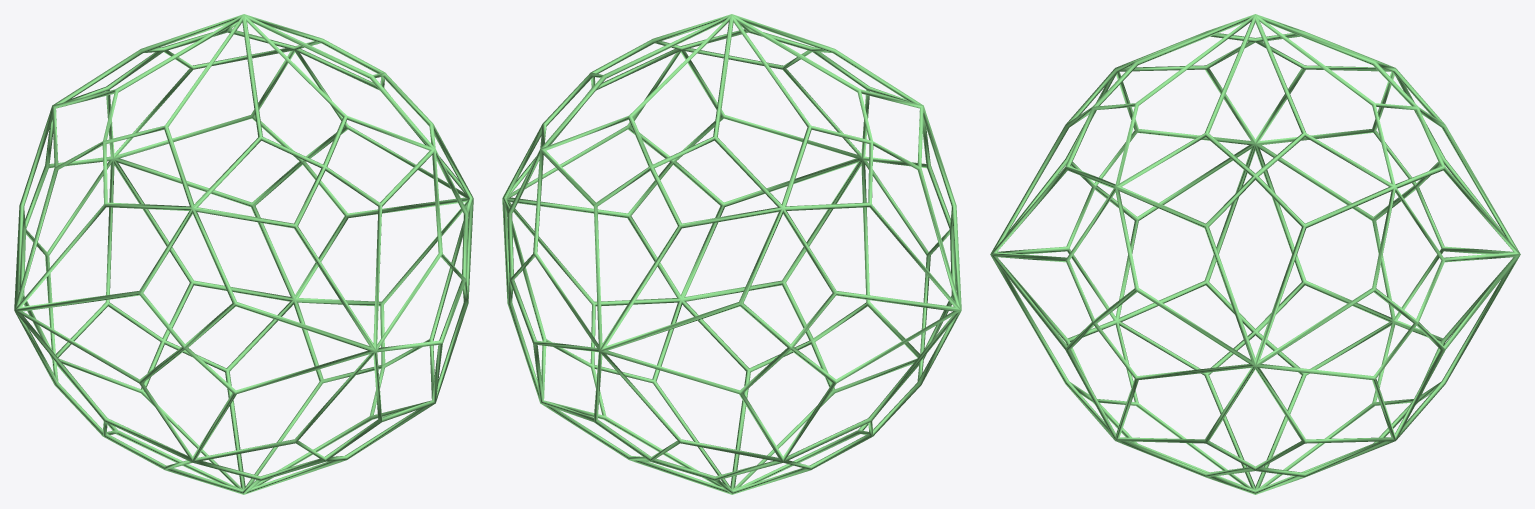
The model's file is JoinedTruncatedCuboctahedron2.glb.
3 views of the same model, side by side, from view 1: azimuth 30°, elevation 25°; view 2: azimuth 150°, elevation 25°; view 3: azimuth 270°, elevation 25° (orthographic).
Parts seen in each view (by area): view 1: JoinedTruncatedCuboctahedron; view 2: JoinedTruncatedCuboctahedron; view 3: JoinedTruncatedCuboctahedron.
Boxes of the visible parts, x1,y1,x2,y2 form: JoinedTruncatedCuboctahedron: [14, 14, 473, 494]; JoinedTruncatedCuboctahedron: [502, 14, 961, 494]; JoinedTruncatedCuboctahedron: [990, 14, 1520, 494].
Size of the model in its own units: 5.4 by 5.4 by 5.4.
